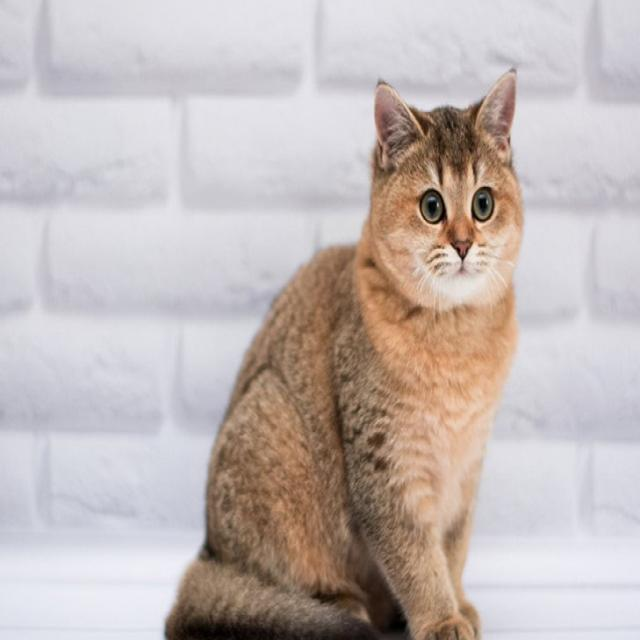Munchkin: (156, 60, 528, 640)
